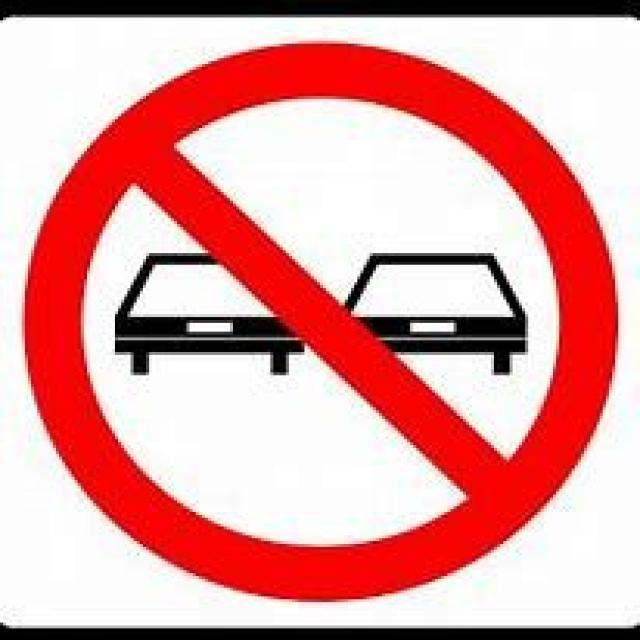overtaking prohibited: (25, 43, 620, 605)
